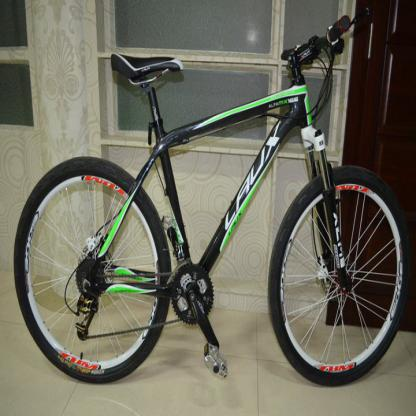bicycle: (12, 14, 414, 392)
